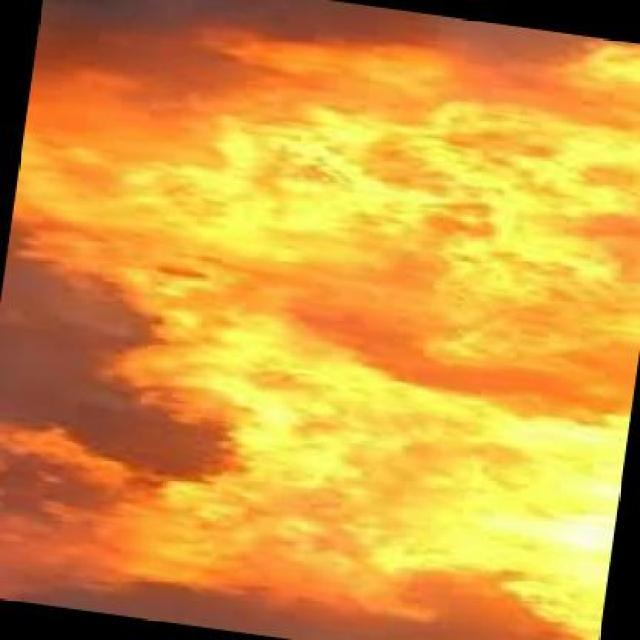Fire: (42, 11, 600, 640)
